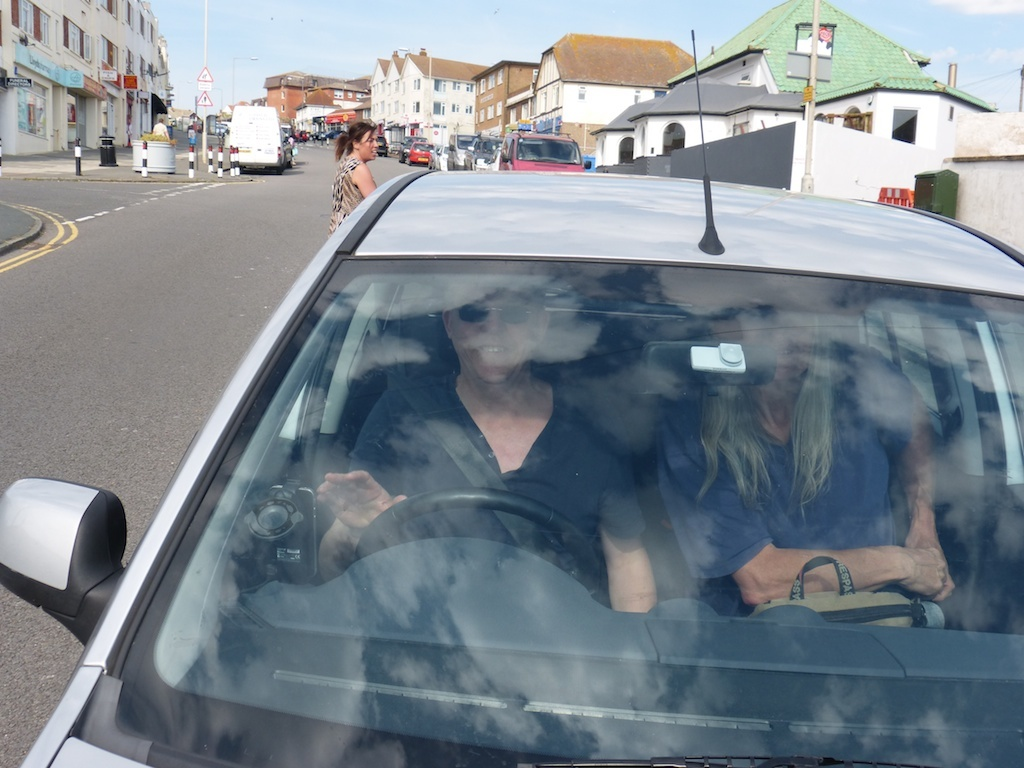cars: (93, 138, 999, 757), (398, 125, 590, 170), (376, 133, 389, 157), (325, 130, 342, 139), (311, 130, 323, 141)
